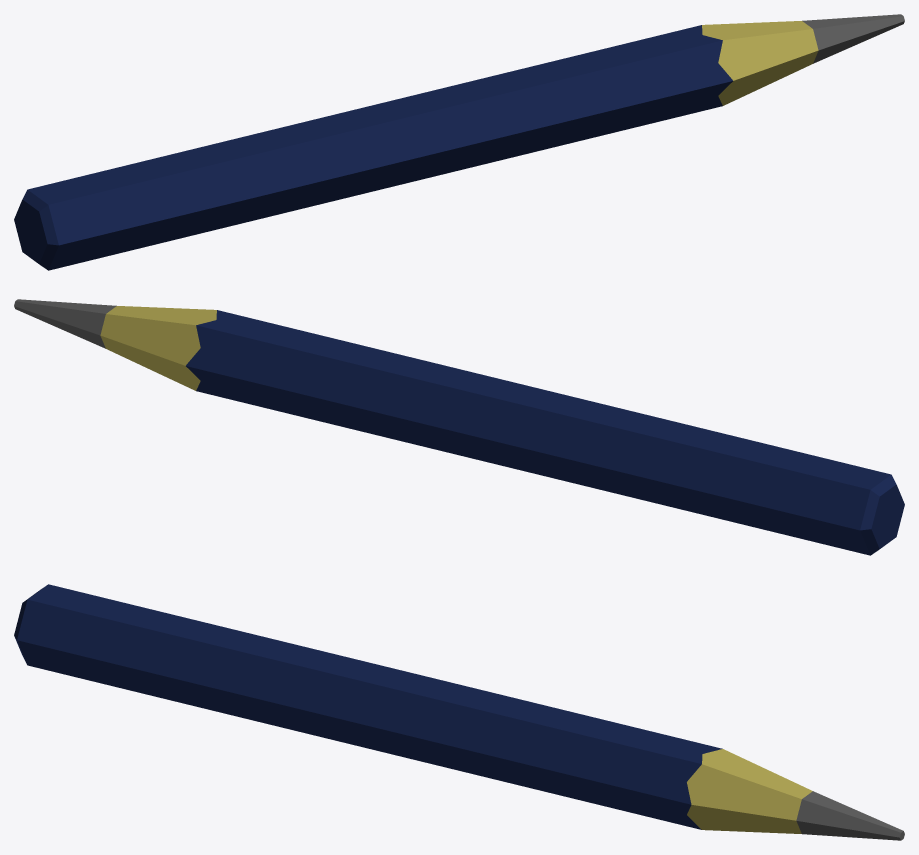
File: pencilVeryShort.fbx
The picture shows the model from 3 angles, top to bottom: view 1: azimuth 30°, elevation 25°; view 2: azimuth 150°, elevation 25°; view 3: azimuth 330°, elevation 25°; orthographic projection.
Visible parts, largest first — view 1: Cylinder, Cylinder.002, Cylinder.001; view 2: Cylinder, Cylinder.002, Cylinder.001; view 3: Cylinder, Cylinder.002, Cylinder.001.
Boxes of the visible parts, x1=… form: Cylinder: x1=14, y1=25, x2=732, y2=270; Cylinder.002: x1=702, y1=21, x2=818, y2=105; Cylinder.001: x1=802, y1=14, x2=904, y2=63; Cylinder: x1=186, y1=310, x2=904, y2=555; Cylinder.002: x1=100, y1=306, x2=216, y2=390; Cylinder.001: x1=14, y1=299, x2=116, y2=348; Cylinder: x1=14, y1=584, x2=722, y2=829; Cylinder.002: x1=687, y1=749, x2=812, y2=833; Cylinder.001: x1=796, y1=791, x2=904, y2=840.
Size of the model in its own units: 11.46 by 0.8275 by 0.9555.
